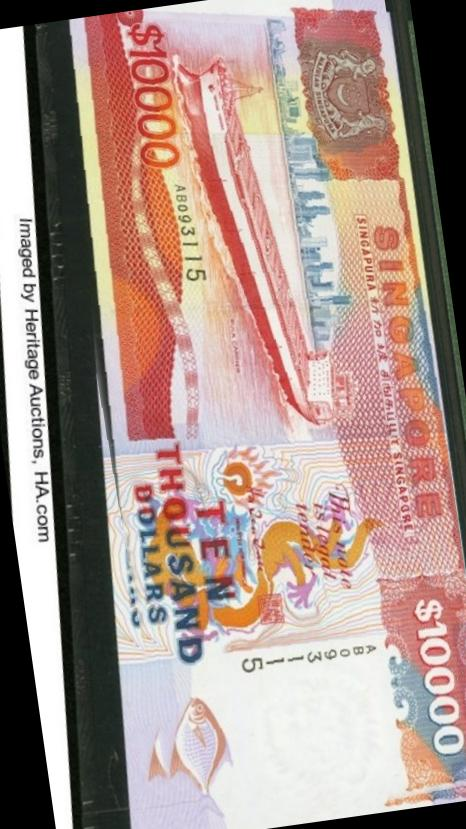10000SingaporeDollar: (37, 0, 466, 829)
